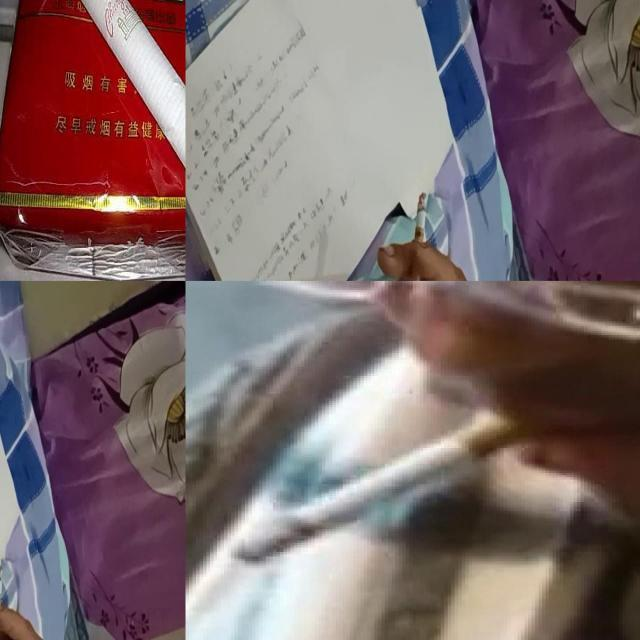smoke: (226, 406, 544, 564), (9, 0, 185, 260), (410, 190, 428, 280), (0, 565, 3, 639)
